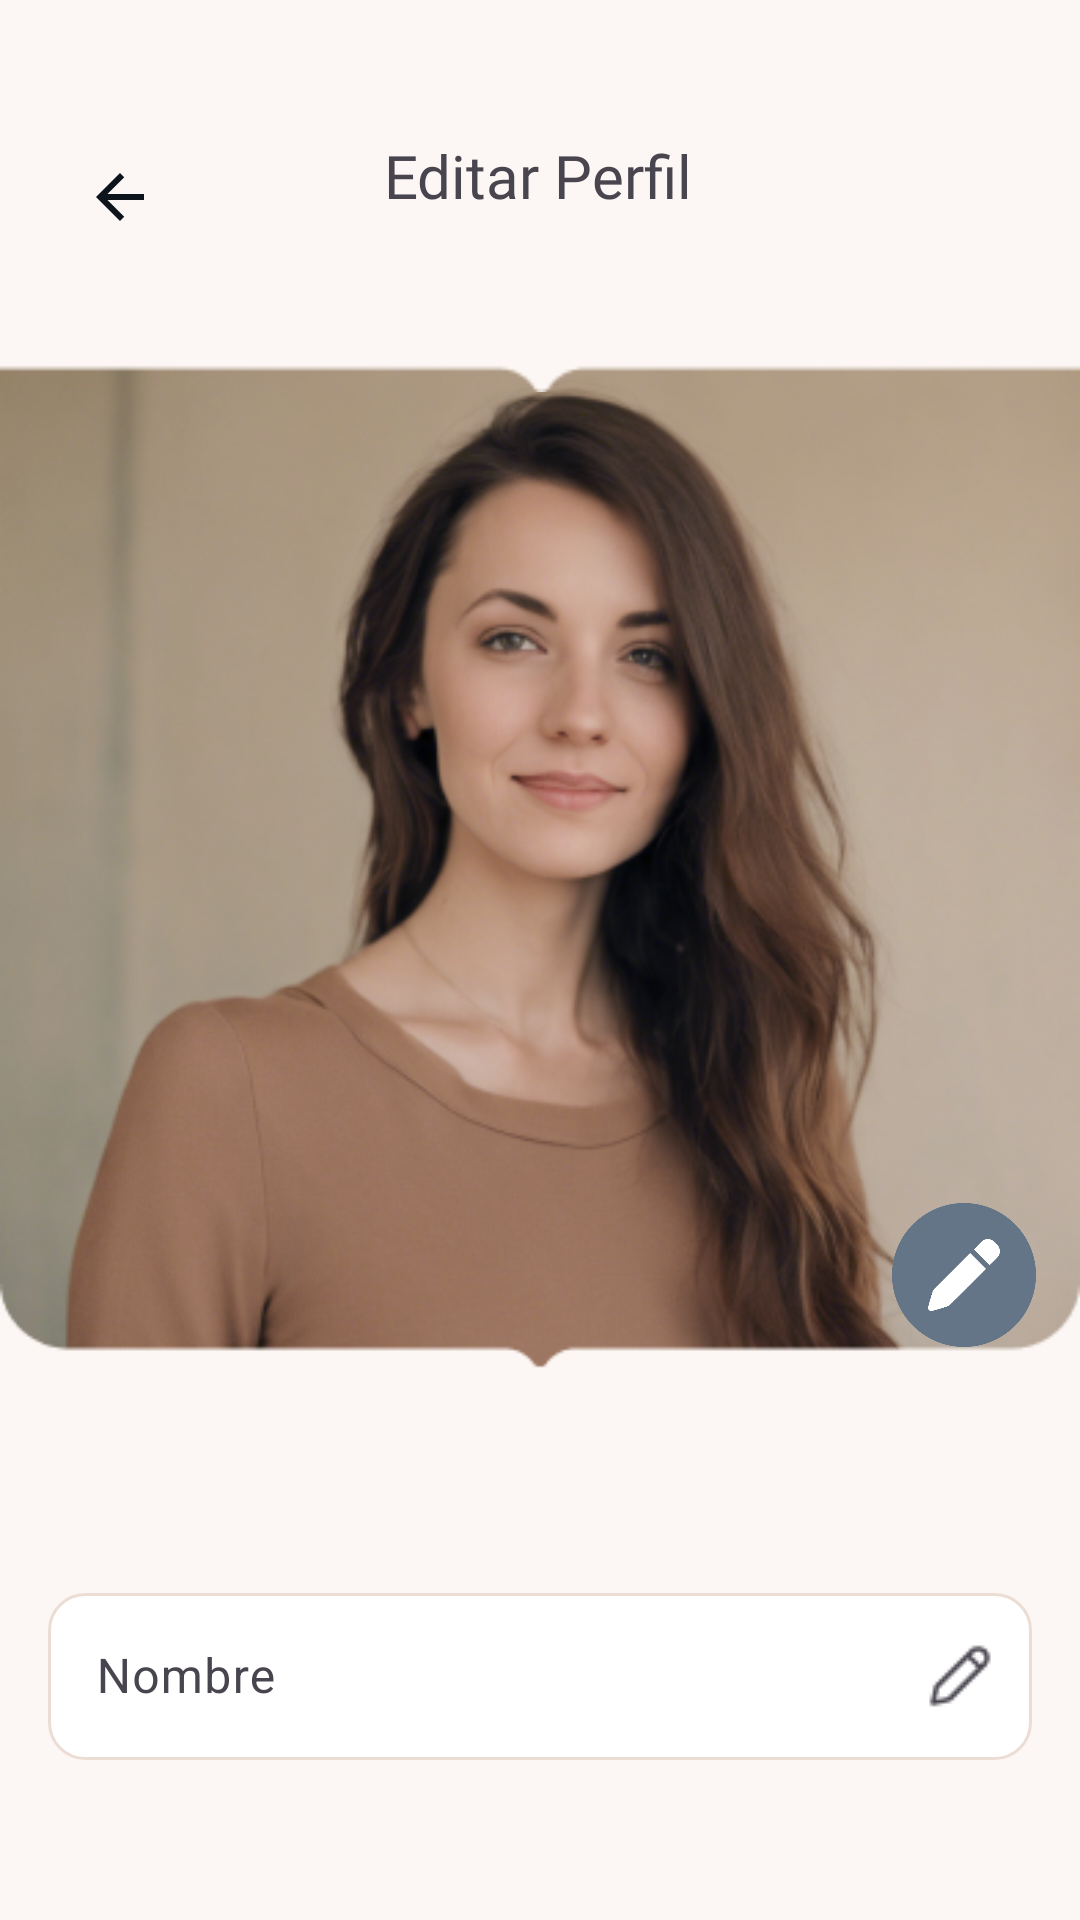

Icon click points for this 1080w x 1920h phone screenshot, format point (x, y):
Botón de retroceso: point (120, 197)
pen: point (964, 1275)
